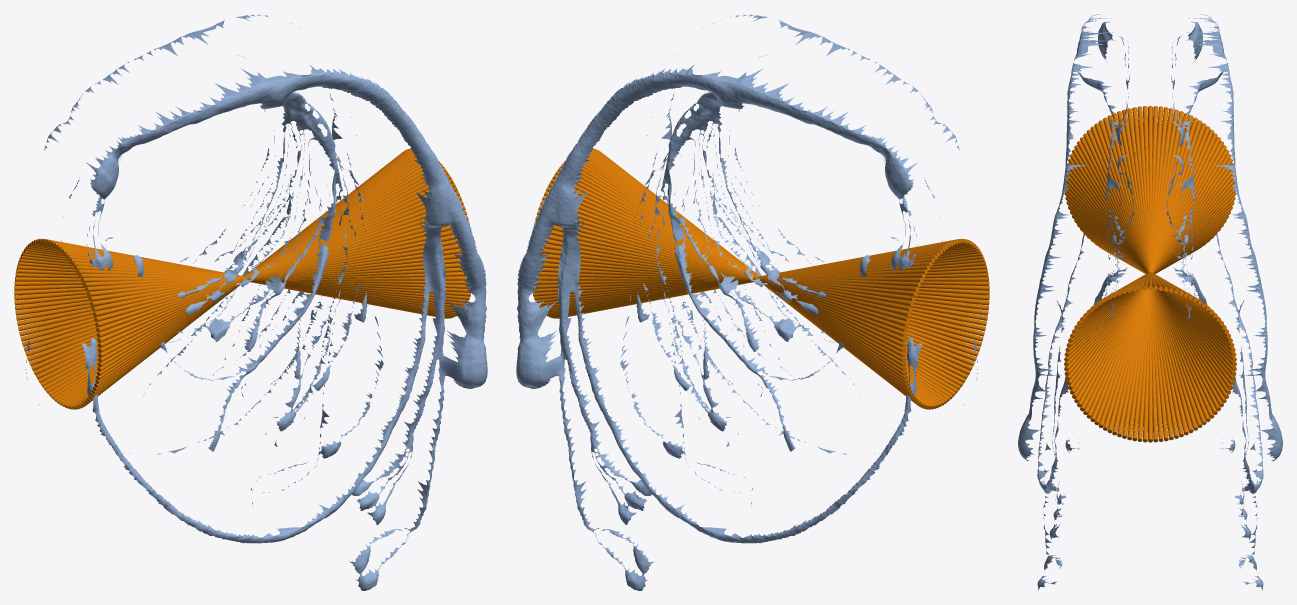
Rendered from A60023111_6150-37-520-3999_DigitalTwin.glb.
3 views of the same model, side by side, from view 1: azimuth 30°, elevation 25°; view 2: azimuth 150°, elevation 25°; view 3: azimuth 270°, elevation 25° (orthographic).
Visible parts, largest first — view 1: world; view 2: world; view 3: world.
Part boxes in pixels (x1,y1,x2,y2): world: (14,14,487,590); world: (516,14,989,590); world: (1018,14,1282,590).
Bounding box in the file's own units: 364 × 477 × 225.
